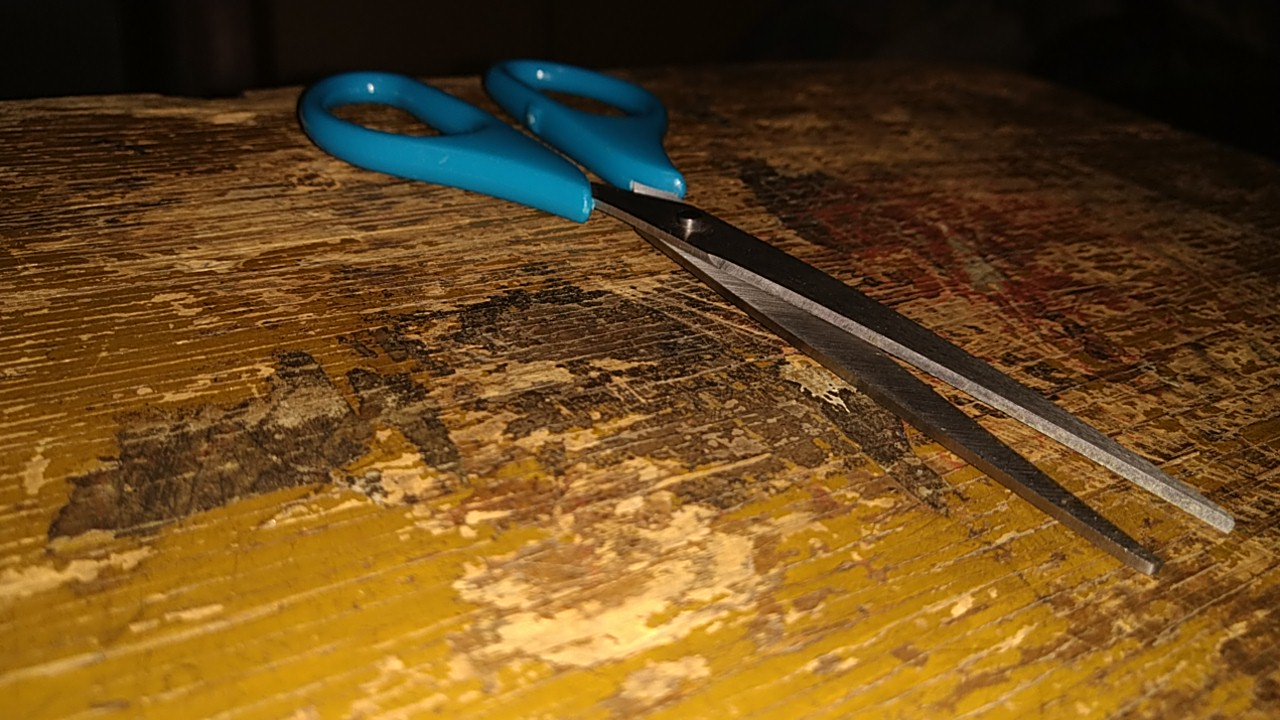scissor: (264, 40, 1250, 604)
